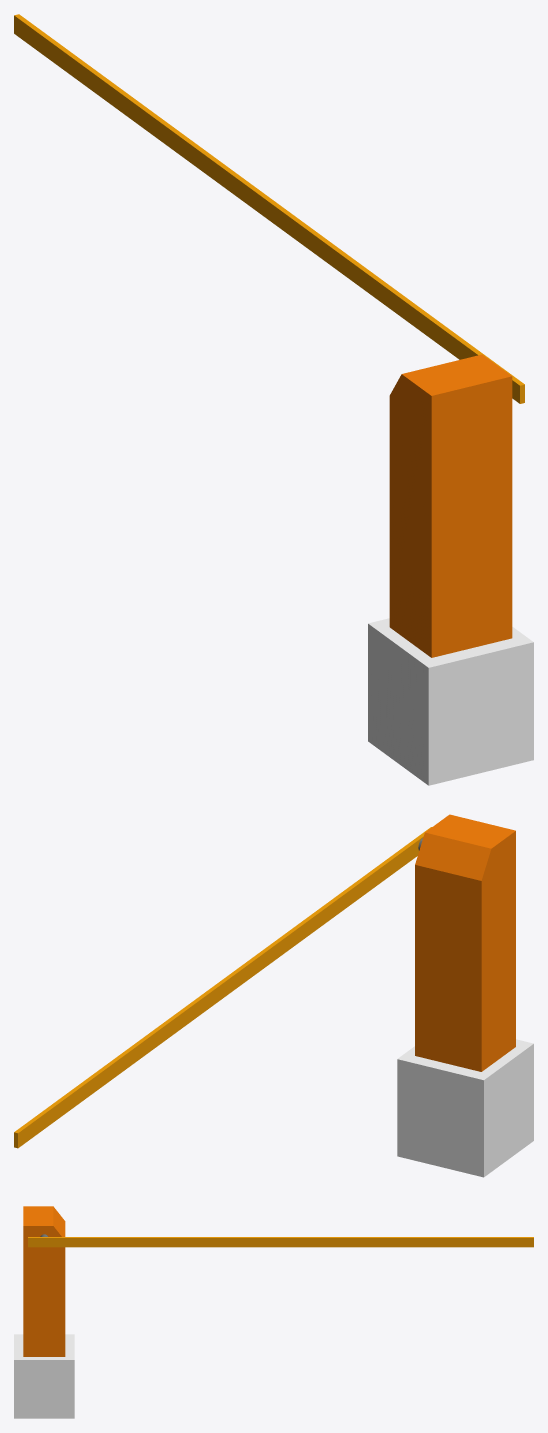
Rendered from Cancela.fbx.
The picture shows the model from 3 angles, top to bottom: view 1: azimuth 30°, elevation 25°; view 2: azimuth 150°, elevation 25°; view 3: azimuth 270°, elevation 25°; orthographic projection. The views are drawn at different scales.
Parts seen in each view (by area): view 1: Componente_55_1, Componente_56_1; view 2: Componente_55_1, Componente_56_1; view 3: Componente_55_1, Componente_56_1.
Boxes of the visible parts, x1=… form: Componente_55_1: x1=368, y1=354, x2=533, y2=785; Componente_56_1: x1=14, y1=14, x2=524, y2=403; Componente_55_1: x1=397, y1=814, x2=533, y2=1177; Componente_56_1: x1=14, y1=827, x2=431, y2=1148; Componente_55_1: x1=14, y1=1206, x2=74, y2=1418; Componente_56_1: x1=28, y1=1237, x2=533, y2=1247.
Size of the model in its own units: 441 by 1450 by 3597.
